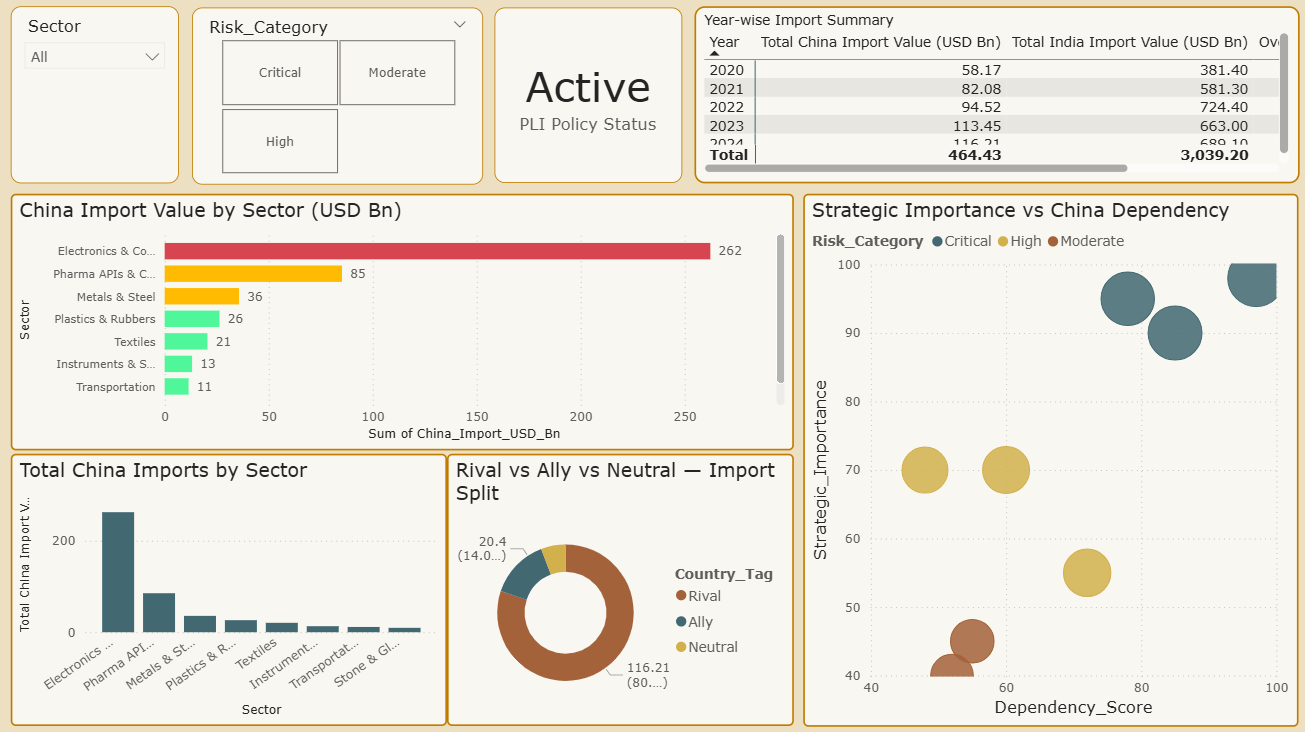

Layout of this report page (visuals, bound fields, positions):
{"tool":"powerbi","page":{"name":" Sector Deep Dive","canvas":[1280,720],"ordinal":1},"visuals":[{"type":"clusteredBarChart","title":"China Import Value by Sector (USD Bn)","fields":{"Category":["Sector_Import_Data.Sector"],"Y":["Sum(Sector_Import_Data.China_Import_USD_Bn)"]},"box":[12.9,188.6,764.3,250],"z":1},{"type":"scatterChart","title":"Strategic Importance vs China Dependency","fields":{"Series":["Risk_Score_Table.Risk_Category"],"Size":["Avg(Risk_Score_Table.Composite_Risk_Score)"],"X":["Risk_Score_Table.Dependency_Score"],"Y":["Risk_Score_Table.Strategic_Importance"]},"box":[787.1,188.6,482.9,520],"z":2},{"type":"clusteredColumnChart","title":" Total China Imports by Sector","fields":{"Category":["Sector_Import_Data.Sector"],"Y":["Sector_Import_Data.Total China Import Value"]},"box":[12.9,442.9,425.7,265.7],"z":3},{"type":"slicer","fields":{"Values":["Risk_Score_Table.Risk_Category"]},"box":[190,7.1,284.3,172.9],"z":4},{"type":"slicer","fields":{"Values":["Policy_Tracker.Sector"]},"box":[12.9,5.7,164.3,172.9],"z":5},{"type":"donutChart","title":"Rival vs Ally vs Neutral — Import Split","fields":{"Category":["Country_Sector_Matrix.Country_Tag"],"Y":["Sum(Country_Sector_Matrix.Import_Value_USD_Bn)"]},"box":[438.6,442.9,338.6,265.7],"z":6},{"type":"pivotTable","title":" Year-wise Import Summary","fields":{"Rows":["Sector_Import_Data.Year"],"Values":["Sector_Import_Data.Total China Import Value","Sector_Import_Data.Total India Import Value","Sector_Import_Data.Overall China Dependency %"]},"box":[680,5.7,590,172.9],"z":7},{"type":"card","fields":{"Values":["Min(Policy_Tracker.Status)"]},"box":[485.7,7.1,182.9,171.4],"z":8}]}

Visuals, with their boxes in screenshot pixels (x1, y1, x2, y2), scaled from the page's 1280x720 canvas onto the 1305x732 screenshot:
"China Import Value by Sector (USD Bn)" clusteredBarChart: locate(13, 192, 792, 446)
"Strategic Importance vs China Dependency" scatterChart: locate(802, 192, 1295, 720)
" Total China Imports by Sector" clusteredColumnChart: locate(13, 450, 447, 720)
slicer - Risk_Score_Table.Risk_Category: locate(194, 7, 484, 183)
slicer - Policy_Tracker.Sector: locate(13, 6, 181, 182)
"Rival vs Ally vs Neutral — Import Split" donutChart: locate(447, 450, 792, 720)
" Year-wise Import Summary" pivotTable: locate(693, 6, 1295, 182)
card - Min(Policy_Tracker.Status): locate(495, 7, 682, 181)
